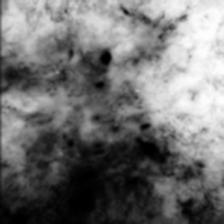Potentially Malignant Skin Tumors: (138, 140, 162, 160), (96, 52, 114, 66)
